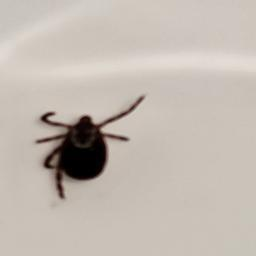Rhipicephalus sanguineus: (35, 94, 147, 201)
